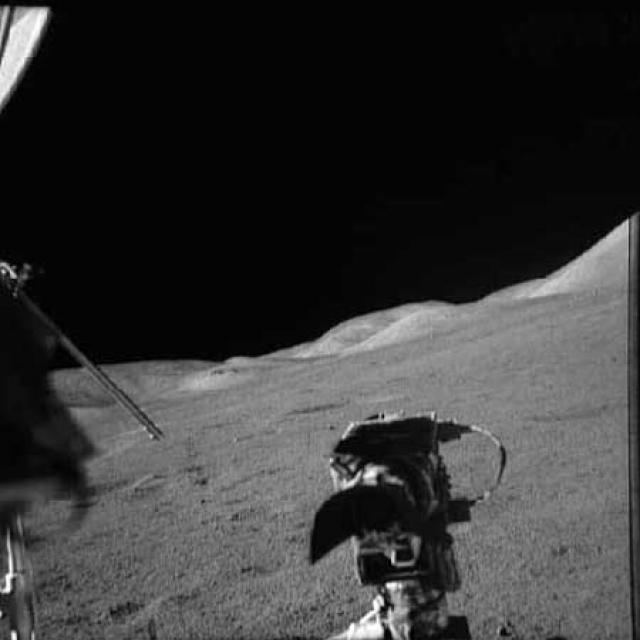artifact: (0, 4, 165, 639), (302, 400, 518, 638)
